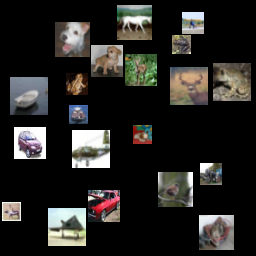airplane: (48, 208, 86, 246), (72, 130, 110, 168), (182, 12, 204, 34)
automobile: (14, 127, 46, 159), (88, 190, 120, 222)
bird: (158, 172, 193, 207)
cat: (199, 215, 234, 250)
deer: (170, 67, 208, 105), (125, 54, 157, 86), (2, 202, 21, 221)
dog: (55, 22, 90, 57), (91, 45, 123, 77), (133, 125, 152, 144)
frog: (213, 63, 251, 101), (66, 73, 88, 95), (172, 35, 191, 54)
ship: (10, 77, 48, 115), (69, 105, 88, 124)
